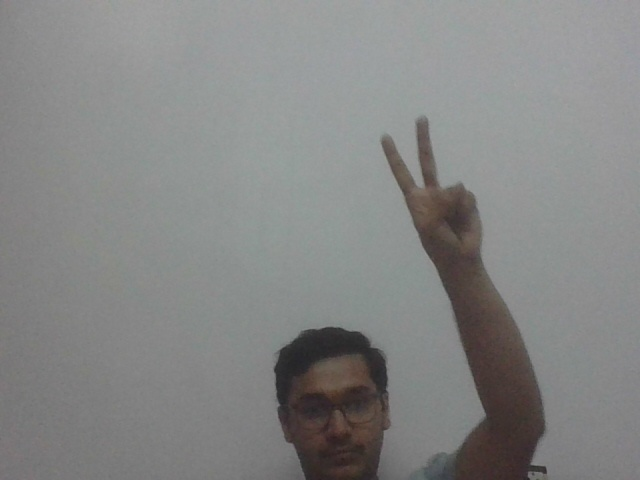V: (376, 112, 491, 263)
